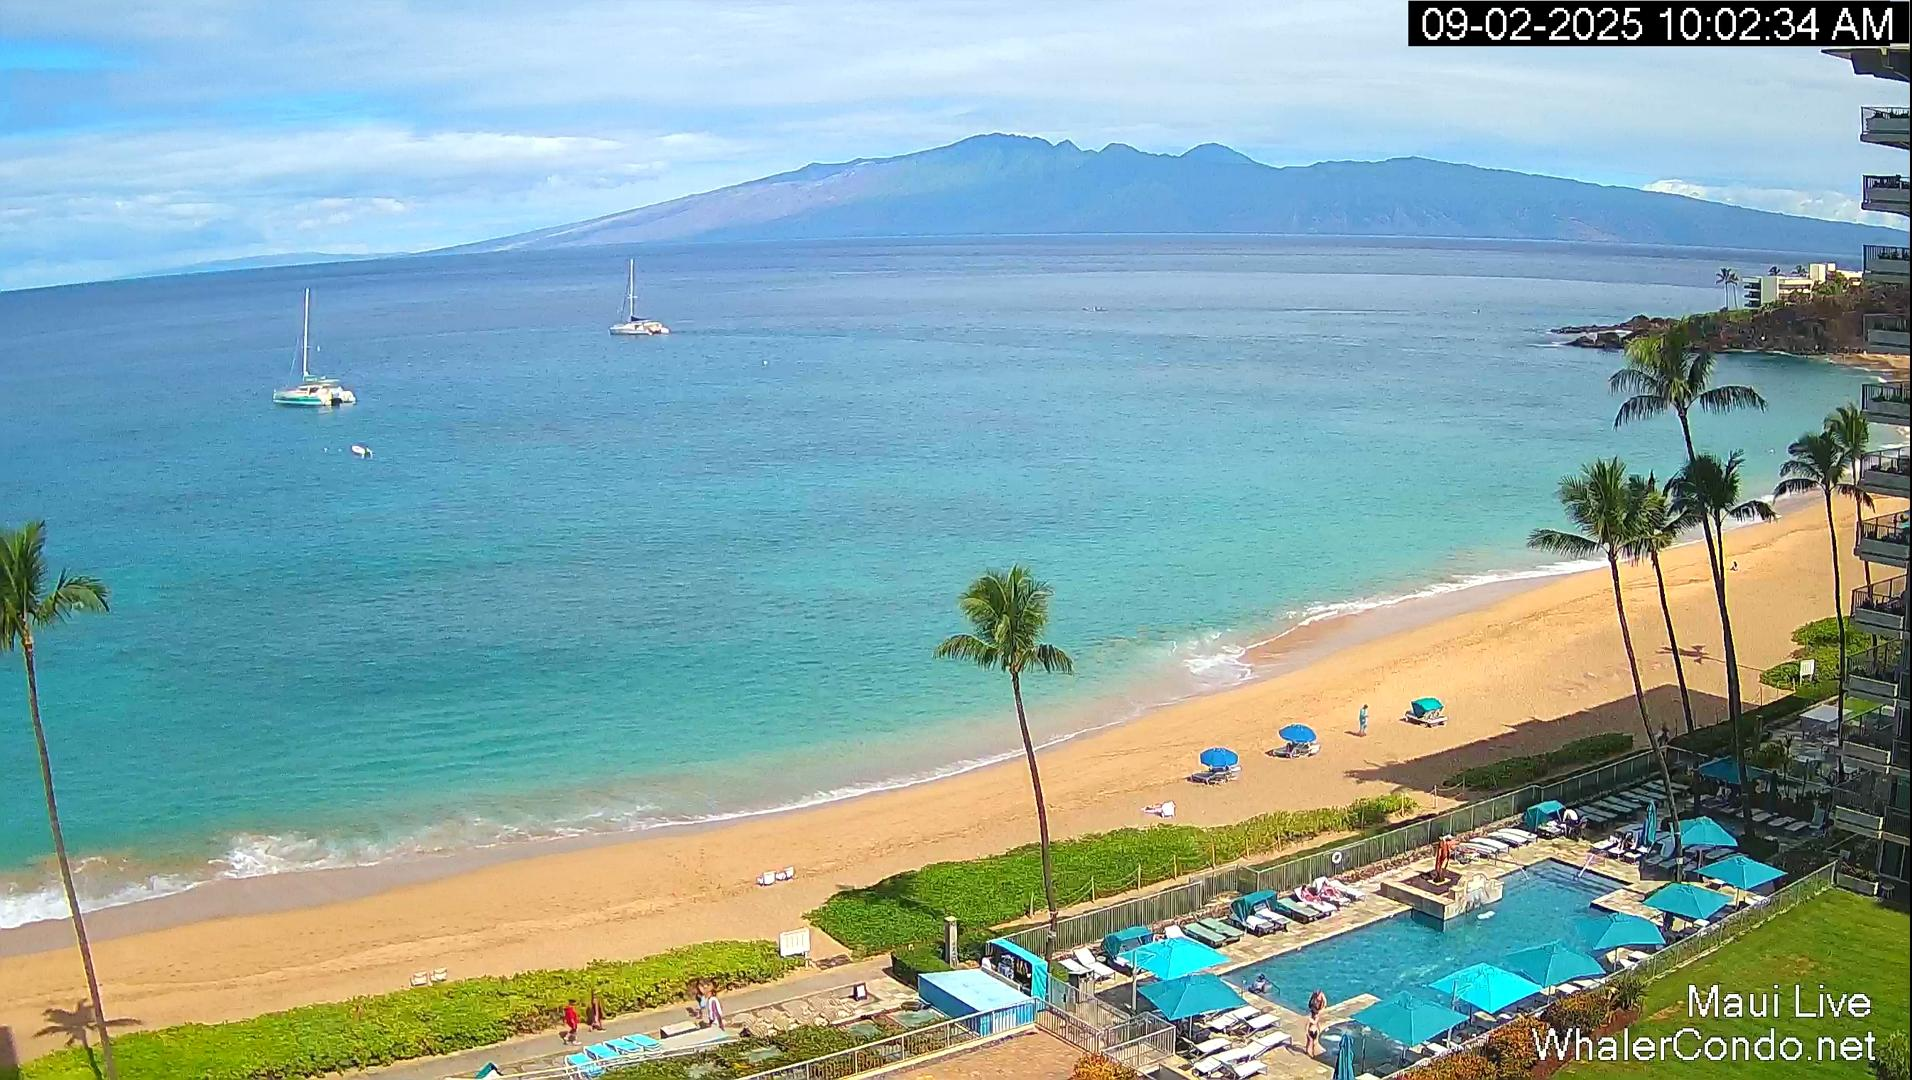boat: (272, 287, 357, 406), (608, 259, 672, 336), (608, 258, 640, 335), (351, 443, 372, 460)
person: (706, 988, 726, 1031), (562, 1000, 580, 1046), (1305, 1012, 1320, 1058), (587, 997, 605, 1032), (1319, 877, 1347, 899), (693, 977, 706, 1023), (1447, 834, 1473, 856), (1300, 883, 1326, 904), (1250, 972, 1270, 995), (1657, 722, 1673, 746), (1358, 704, 1369, 736), (1563, 807, 1578, 822), (1728, 560, 1742, 571), (1621, 835, 1631, 850), (588, 1024, 606, 1032)
